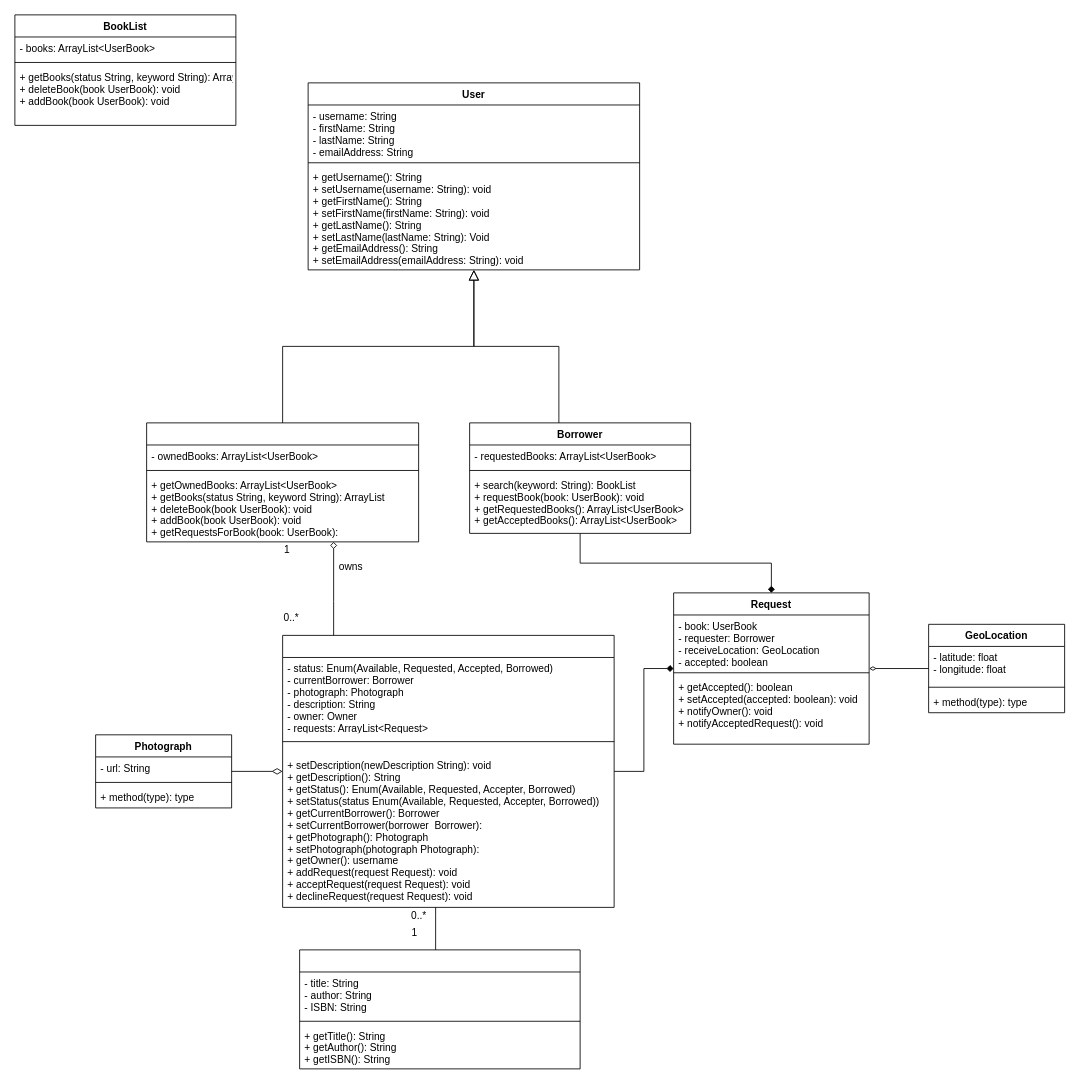
Some shapes in this 1080 by 1086 pixel diagram are drawn without their labels. Here are the shapes that lost their labels. From the top down, the box of each, then its label:
(146, 422, 419, 542): Owner
(282, 635, 614, 907): UserBook
(299, 949, 580, 1069): Book
